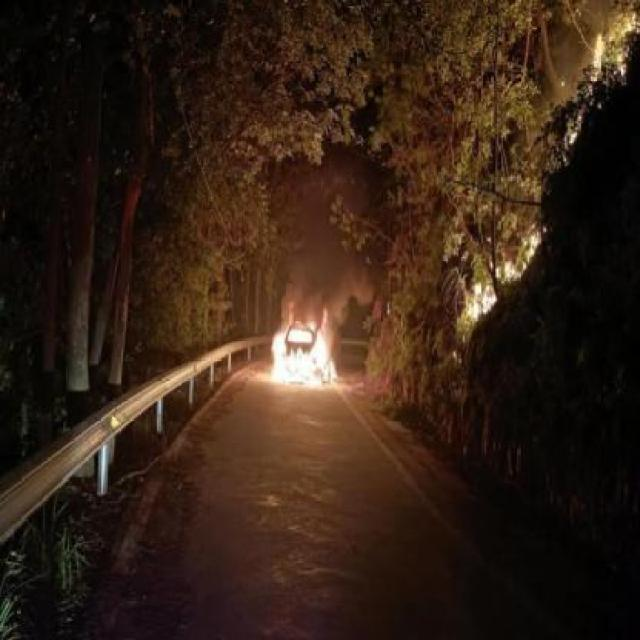Fire: (274, 324, 336, 388)
Smoke: (290, 182, 370, 330)
